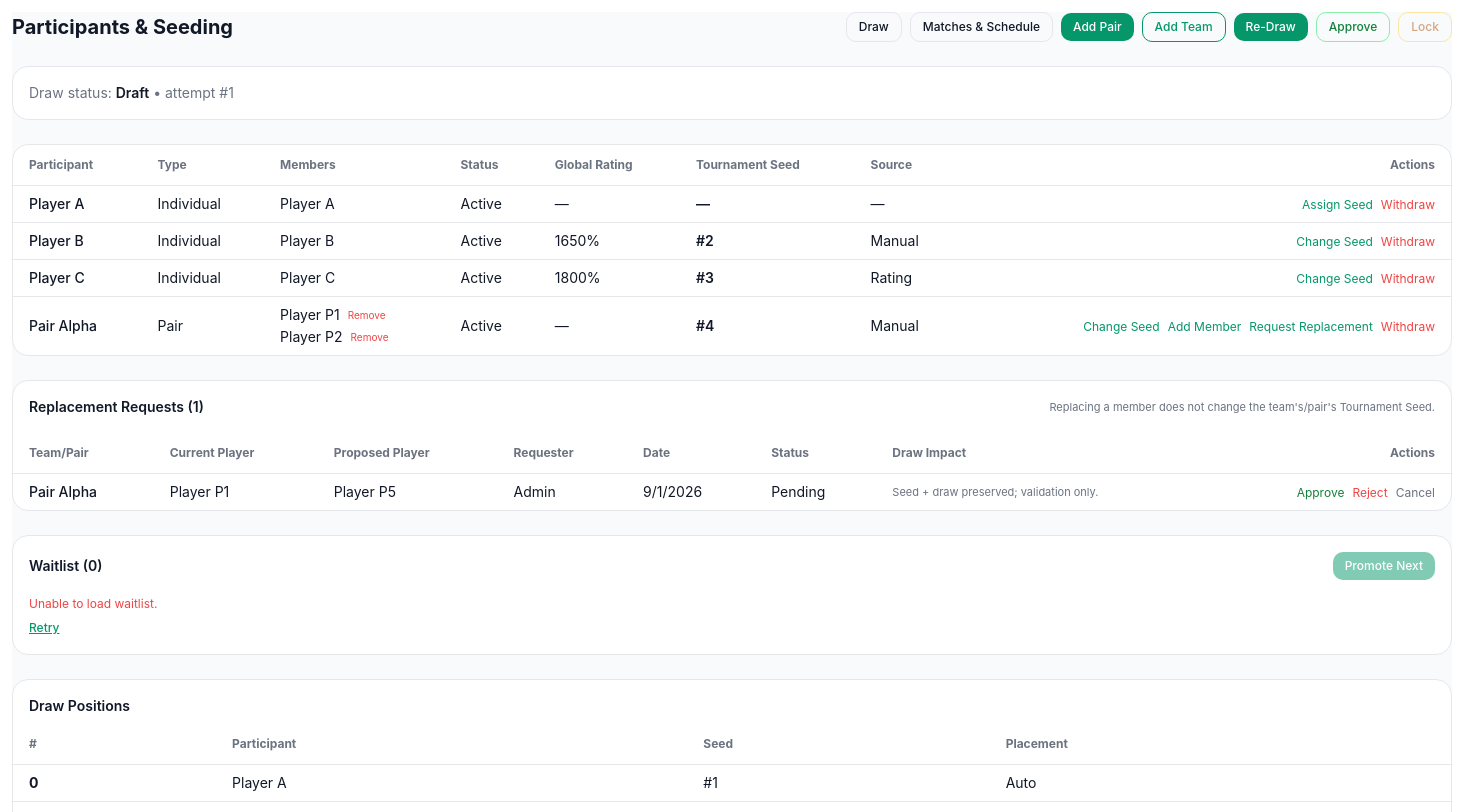
Test case: TournamentParticipantsPage — F-02 fetch-error states › waitlist failure: shows error + Retry (never "The waitlist is empty.") while the participant table still renders; Retry recovers
Check: the text "Unable to load waitlist." is shown, box x1=29 y1=596 x2=157 y2=611
Check: the text "Player W1" is not shown
Click the button "Retry": (44,628) x1=29 y1=620 x2=60 y2=636
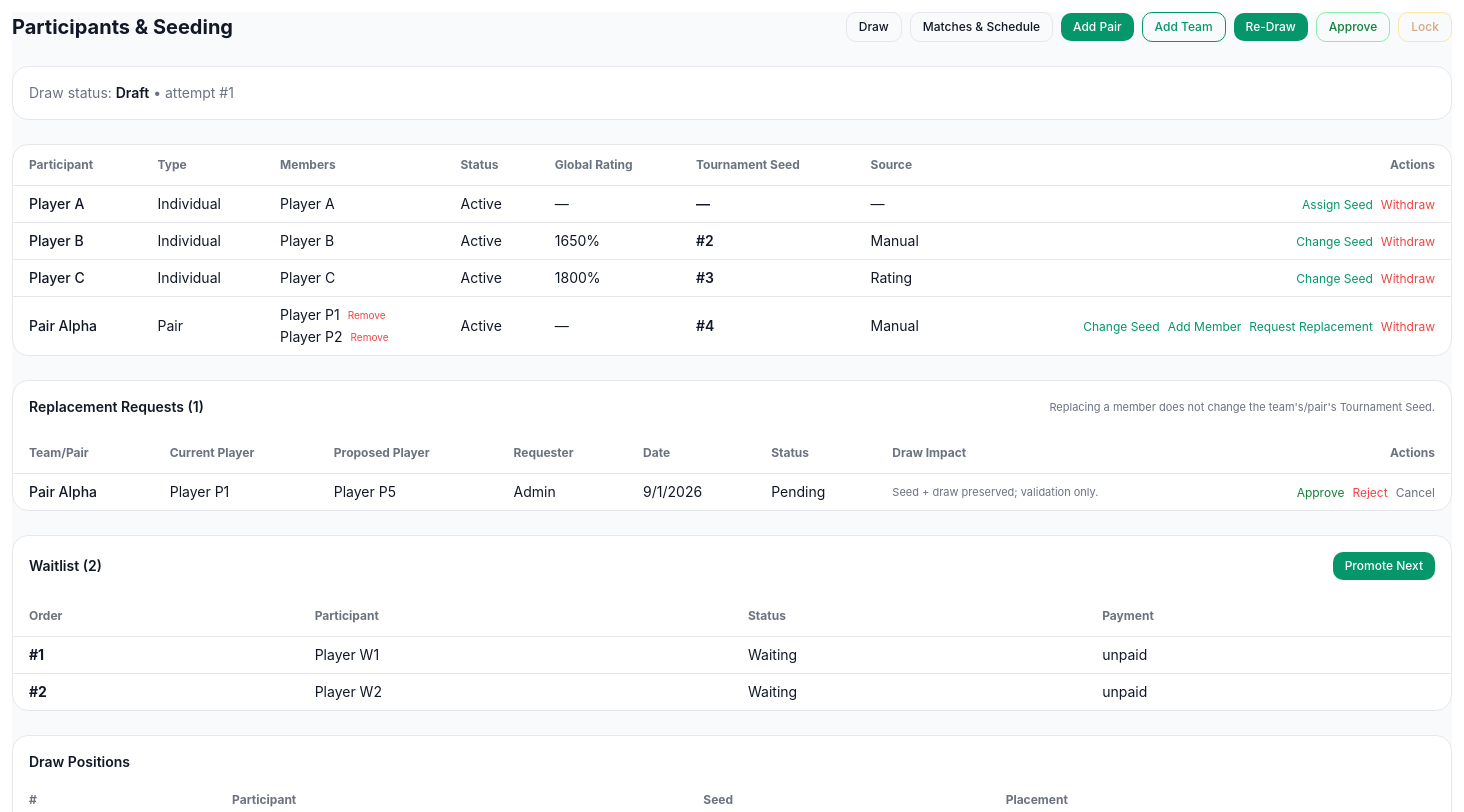
Check: the text "Player W1" is shown, box x1=299 y1=636 x2=732 y2=674
